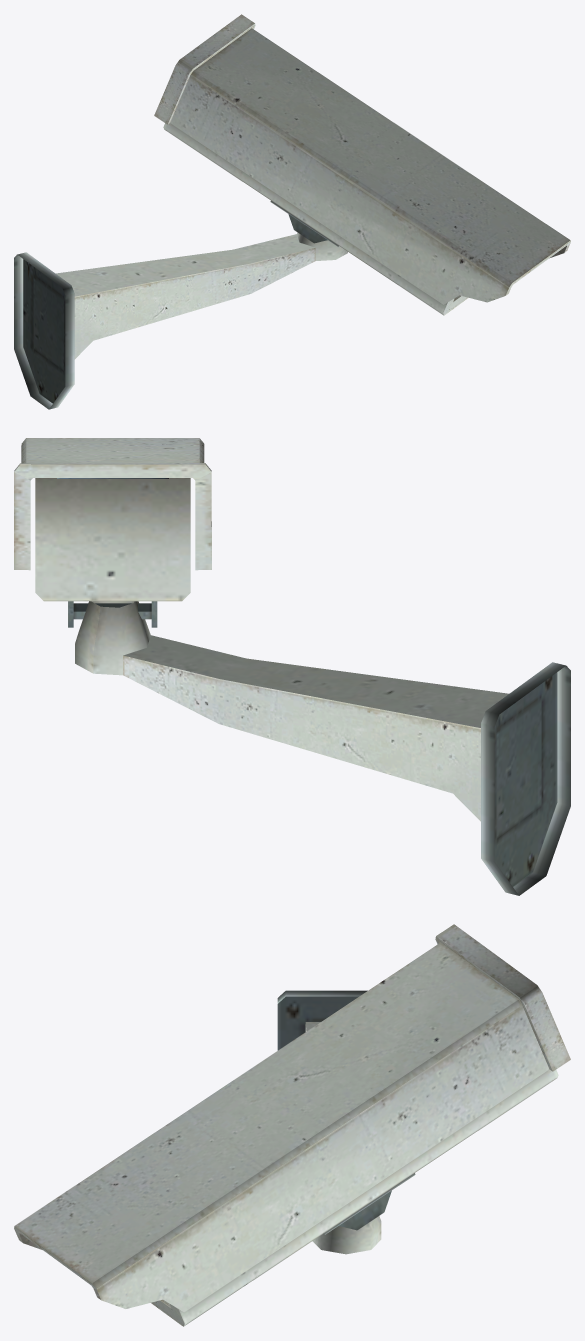
Rendered from cameras.fbx.
The picture shows the model from 3 angles, top to bottom: view 1: azimuth 30°, elevation 25°; view 2: azimuth 150°, elevation 25°; view 3: azimuth 270°, elevation 25°; orthographic projection. The views are drawn at different scales.
Parts seen in each view (by area): view 1: cameras.001; view 2: cameras.001; view 3: cameras.001.
Part boxes in pixels (x1=…): cameras.001: x1=14, y1=14, x2=570, y2=409; cameras.001: x1=14, y1=438, x2=570, y2=895; cameras.001: x1=14, y1=924, x2=570, y2=1326.
Size of the model in its own units: 1.01 by 0.5958 by 0.8352.
Materials: 1 (1 with a texture image).
